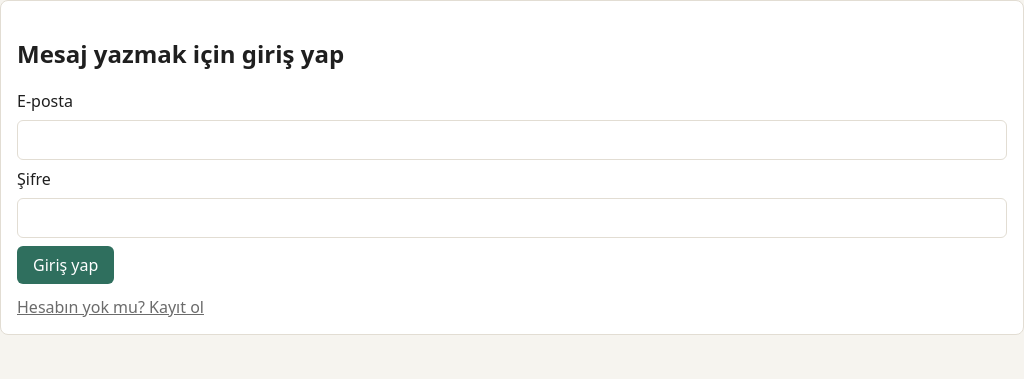
Test case: kayit hatasi kullaniciya gosterilir
Click the button "Hesabın yok mu? Kayıt ol" at [110, 307], box [17,296,204,318]
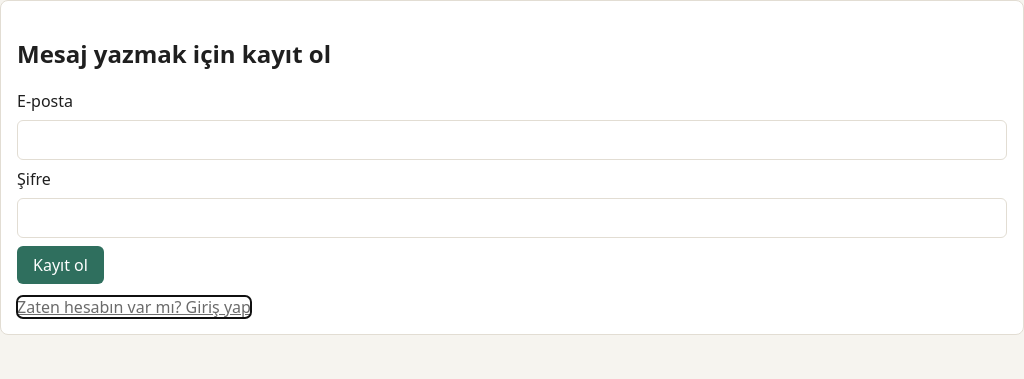
Type "var@example.com" into the field labelled "E-posta" at [512, 140], box [17,120,1007,160]
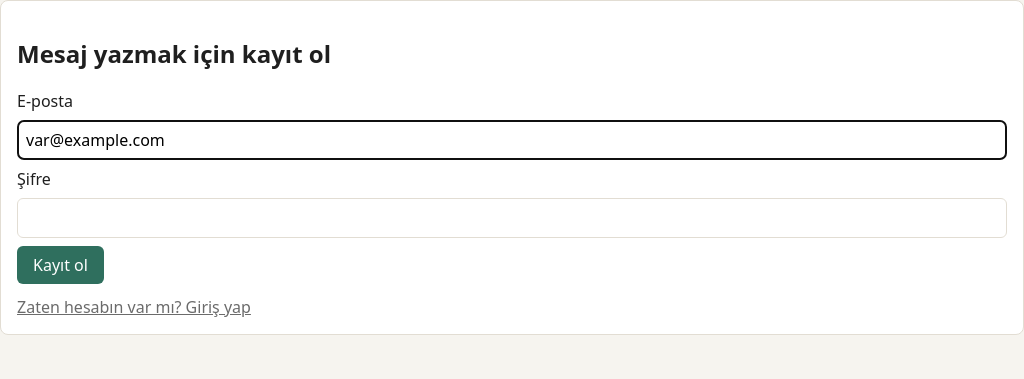
Type "parola1234" into the password field labelled "Şifre" at [512, 218], box [17,198,1007,238]
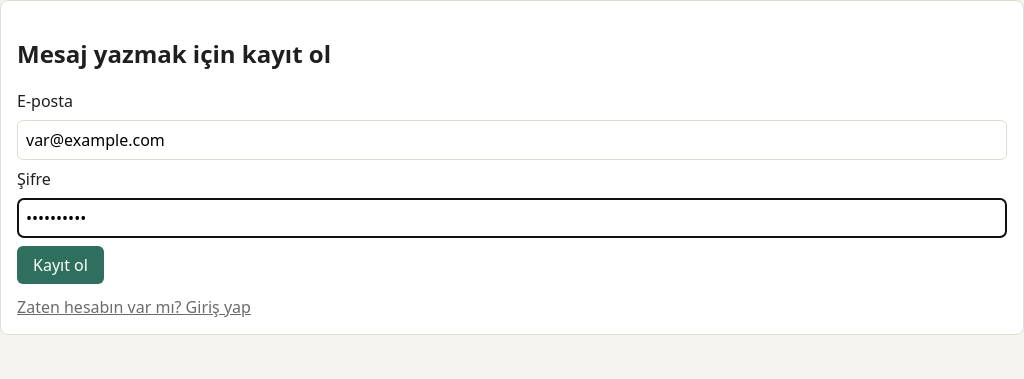
Click the button "Kayıt ol" at [60, 265], box [17,246,104,284]
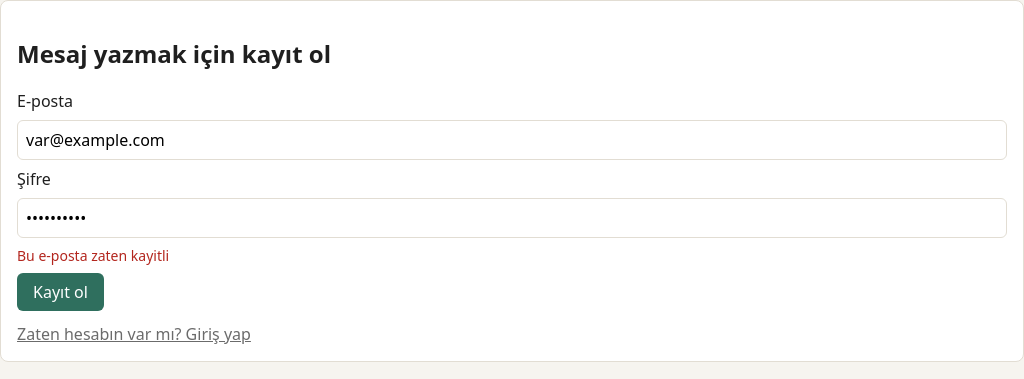
Check: the message reads "Bu e-posta zaten kayitli", box [17,246,169,265]
